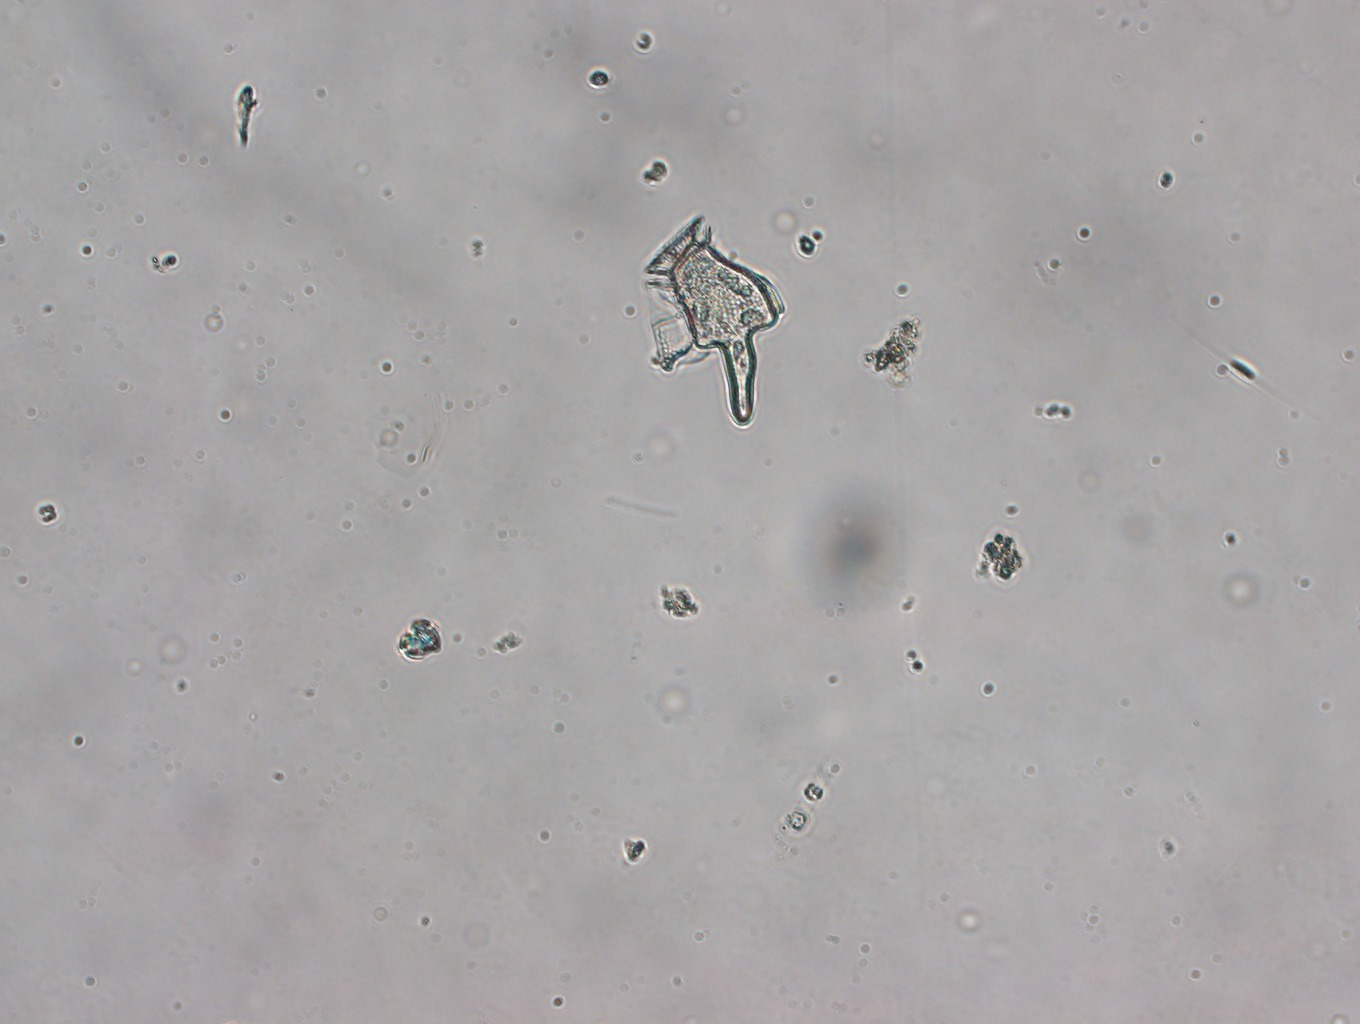dinophysis caudata: (634, 207, 791, 435)
